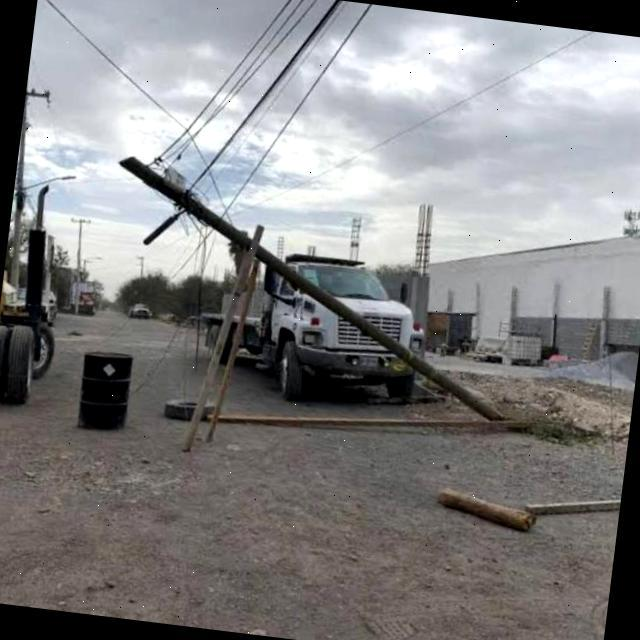Broken Pole: (109, 151, 510, 424)
